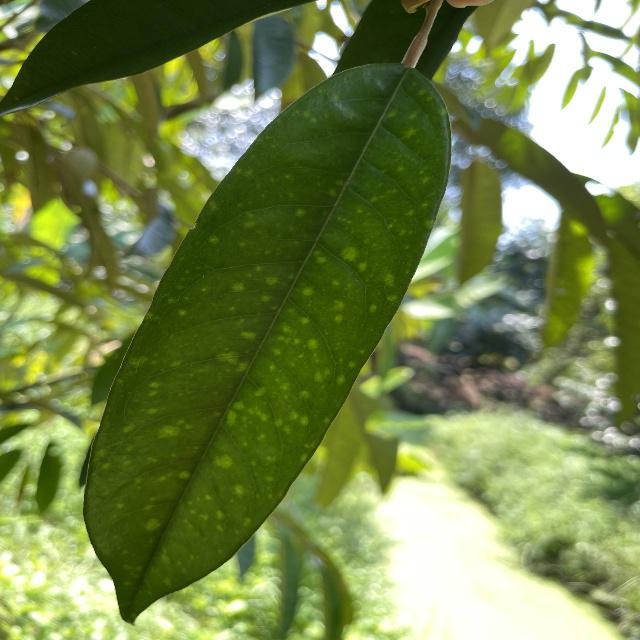Leaf Spot: (75, 57, 461, 631)
